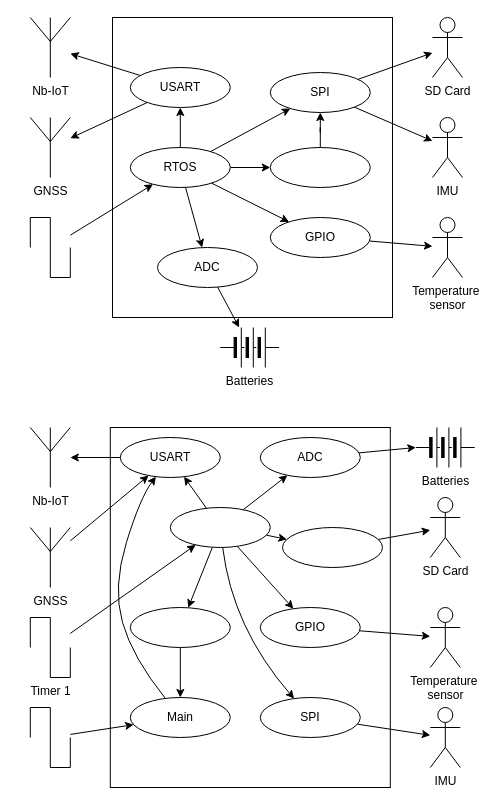
Image size: 501x806. Some labels were removed from this diagram. The shapes that lost their labels are listed below. From the top down, each one's centre as x and y in pixels, then its label:
(319,167): Log
(49,247): Virtual Timer
(219,527): DMA
(332,547): SDMMC
(179,627): Memory
(49,737): Timer 2
